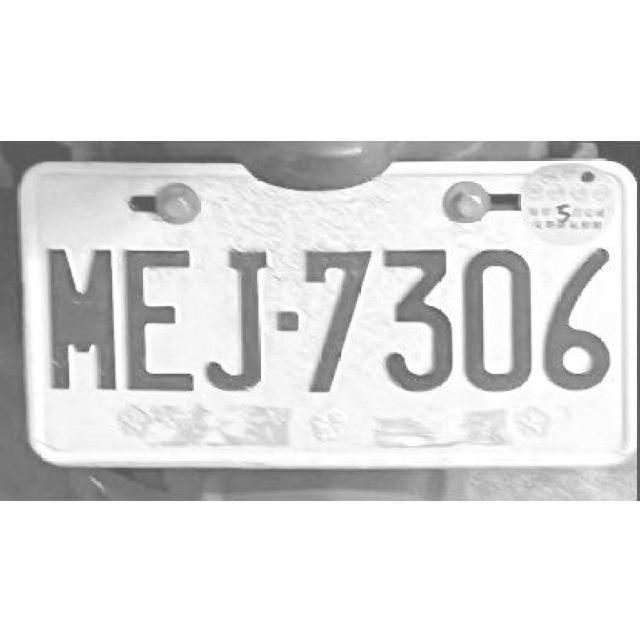-: (275, 305, 297, 329)
0: (460, 243, 535, 394)
3: (378, 243, 452, 395)
6: (537, 238, 614, 391)
7: (302, 243, 372, 391)
E: (119, 242, 192, 388)
J: (195, 242, 274, 392)
M: (43, 243, 122, 392)
